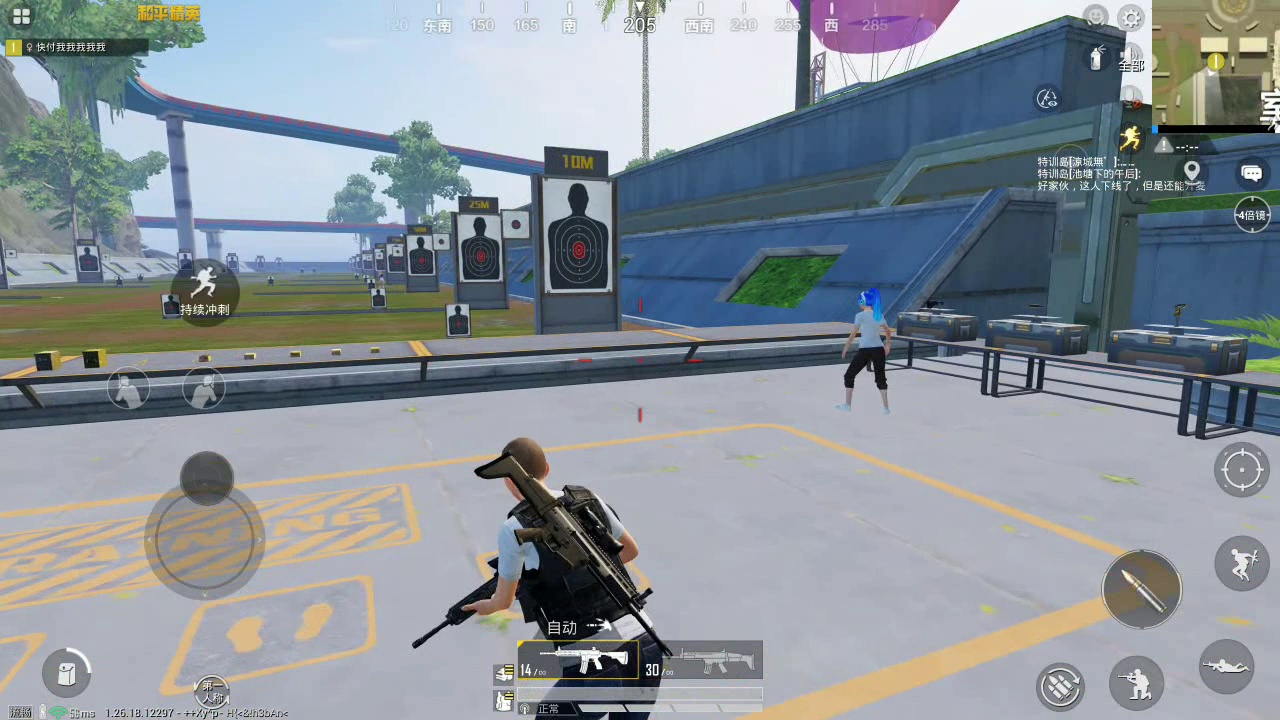enemy: (838, 288, 893, 418)
